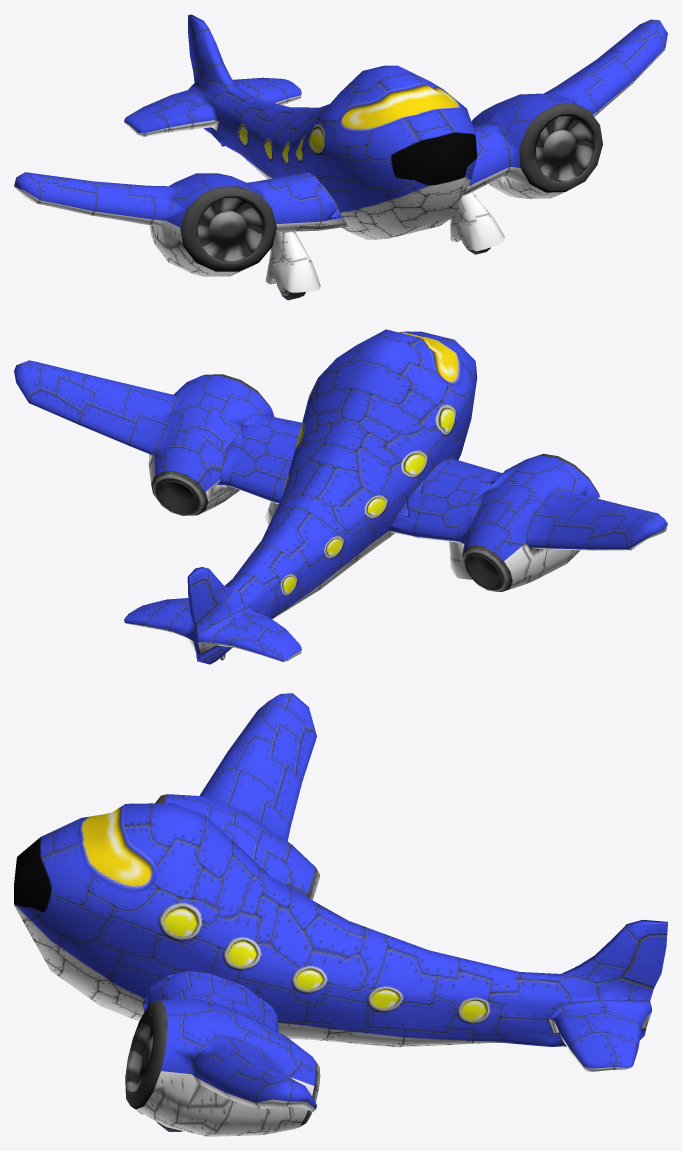
Rendered from airplane.fbx.
The picture shows the model from 3 angles, top to bottom: view 1: azimuth 30°, elevation 25°; view 2: azimuth 150°, elevation 25°; view 3: azimuth 270°, elevation 25°; orthographic projection. The views are drawn at different scales.
Parts seen in each view (by area): view 1: Mesh; view 2: Mesh; view 3: Mesh.
Part boxes in pixels (left/top/right/bottom): Mesh: left=14, top=14, right=667, bottom=300; Mesh: left=14, top=329, right=667, bottom=664; Mesh: left=14, top=693, right=667, bottom=1136.
Size of the model in its own units: 654771 by 198766 by 451191.
